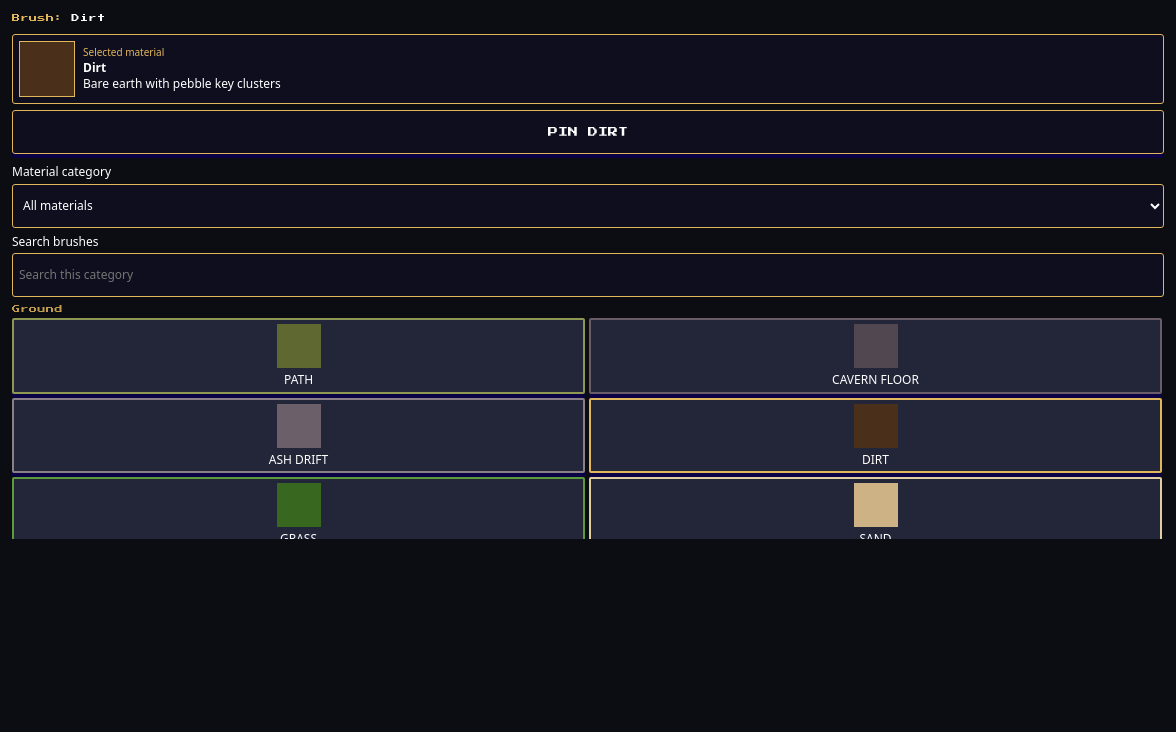
MapEditBrushDeck › arms the clicked family and records it as a recent
This screenshot has width=1176, height=732.
Click the button titled "Grass". click: (298, 515)
box: [12,477,585,553]
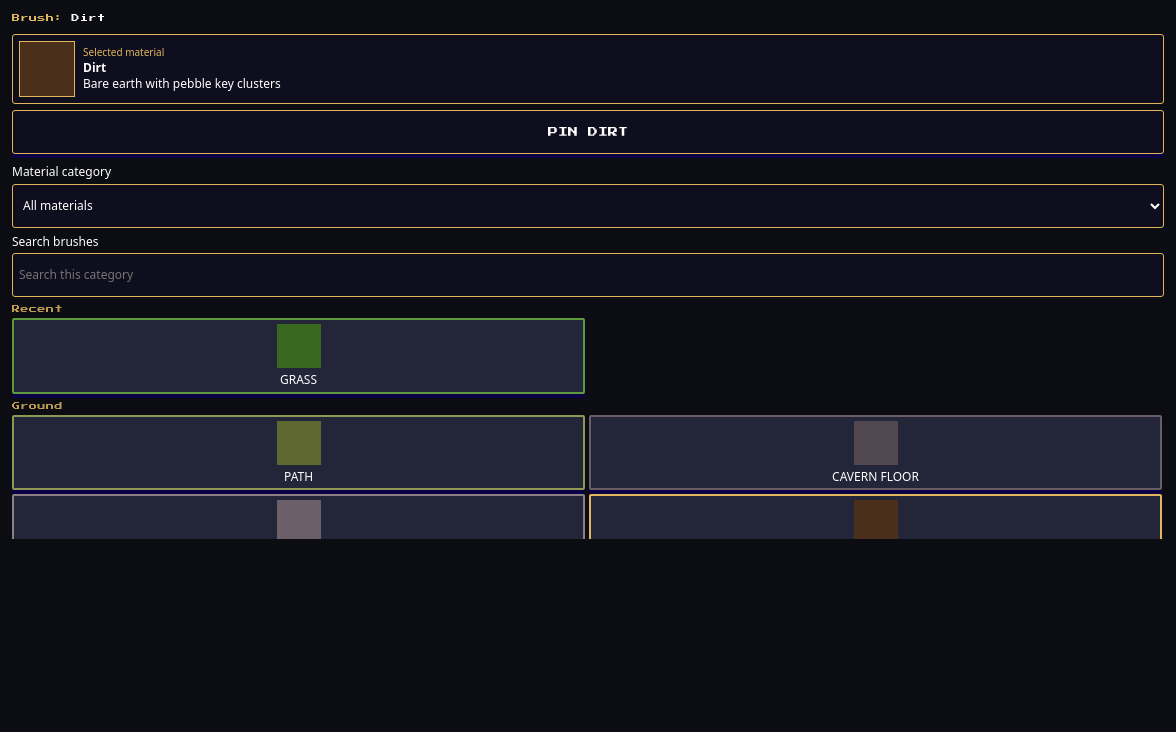
Now the text "Recent" is shown, box [12,305,63,313]
